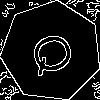Q: (26, 26, 85, 79)
